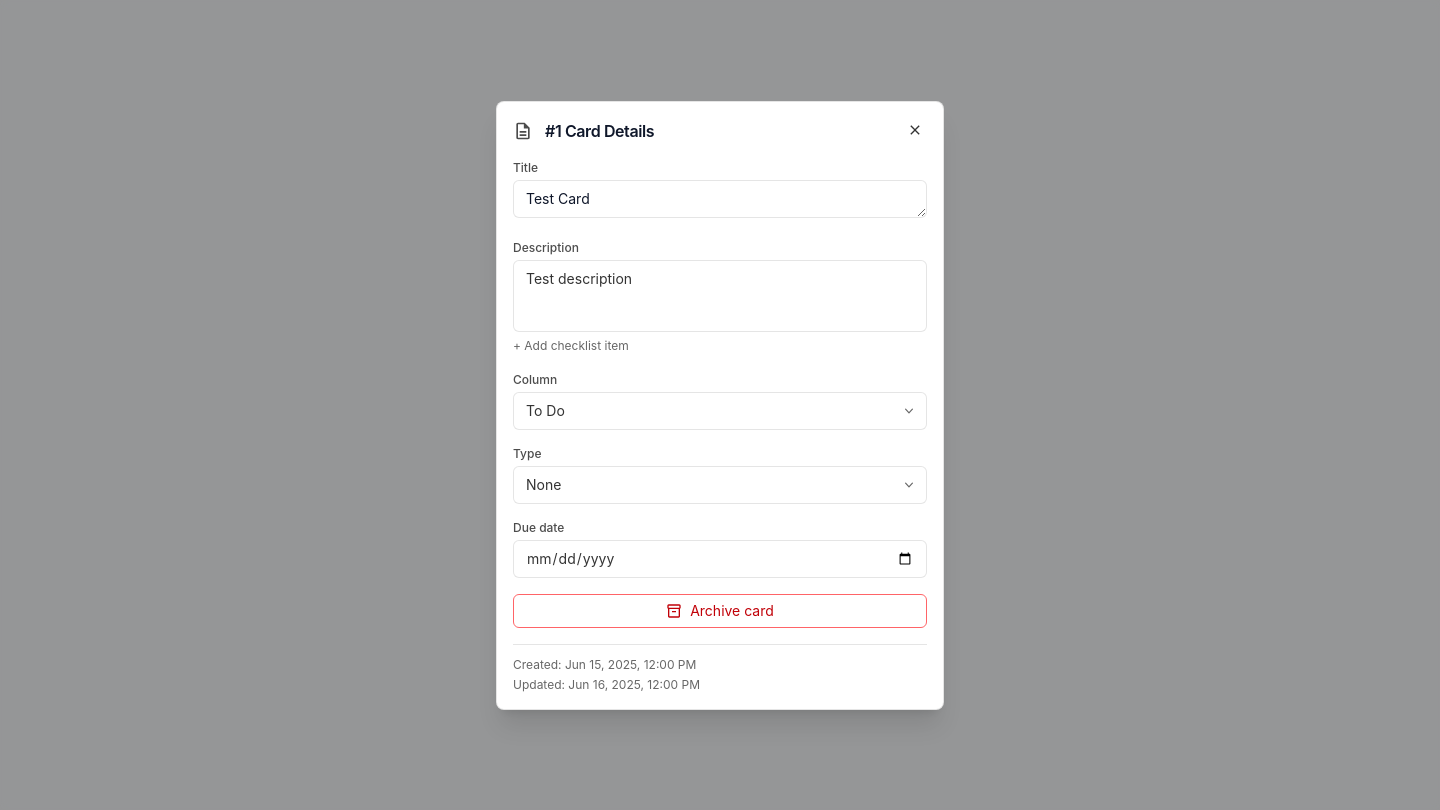
Scenario: CardDetailModal › reverts description on Escape and returns to preview
This screenshot has width=1440, height=810.
Click the element with test id "card-detail-description-preview". click: (720, 296)
box: [513, 260, 927, 332]
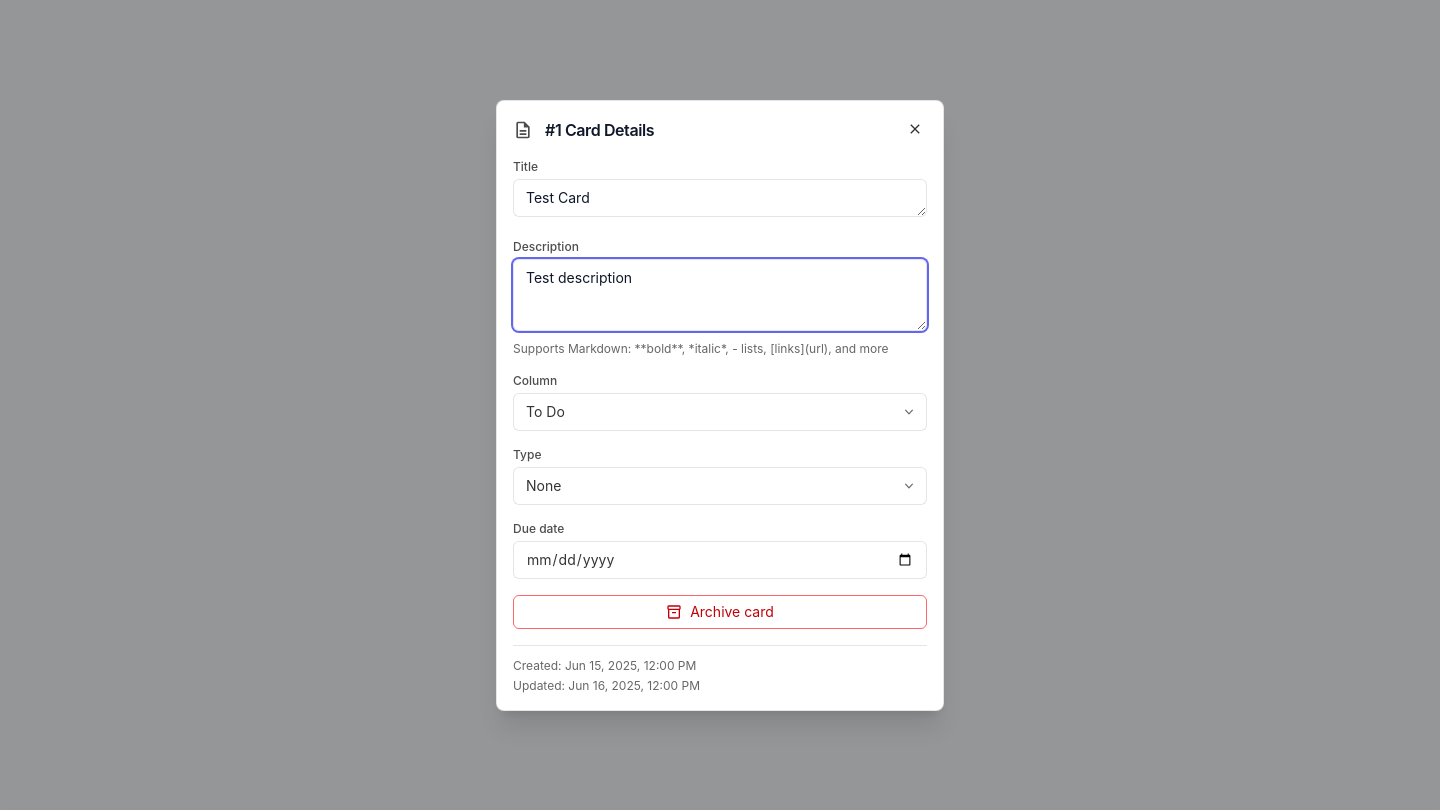
Replace the text in the text box with test id "card-detail-description" with "Changed". click: (720, 294)
box: [513, 258, 927, 330]
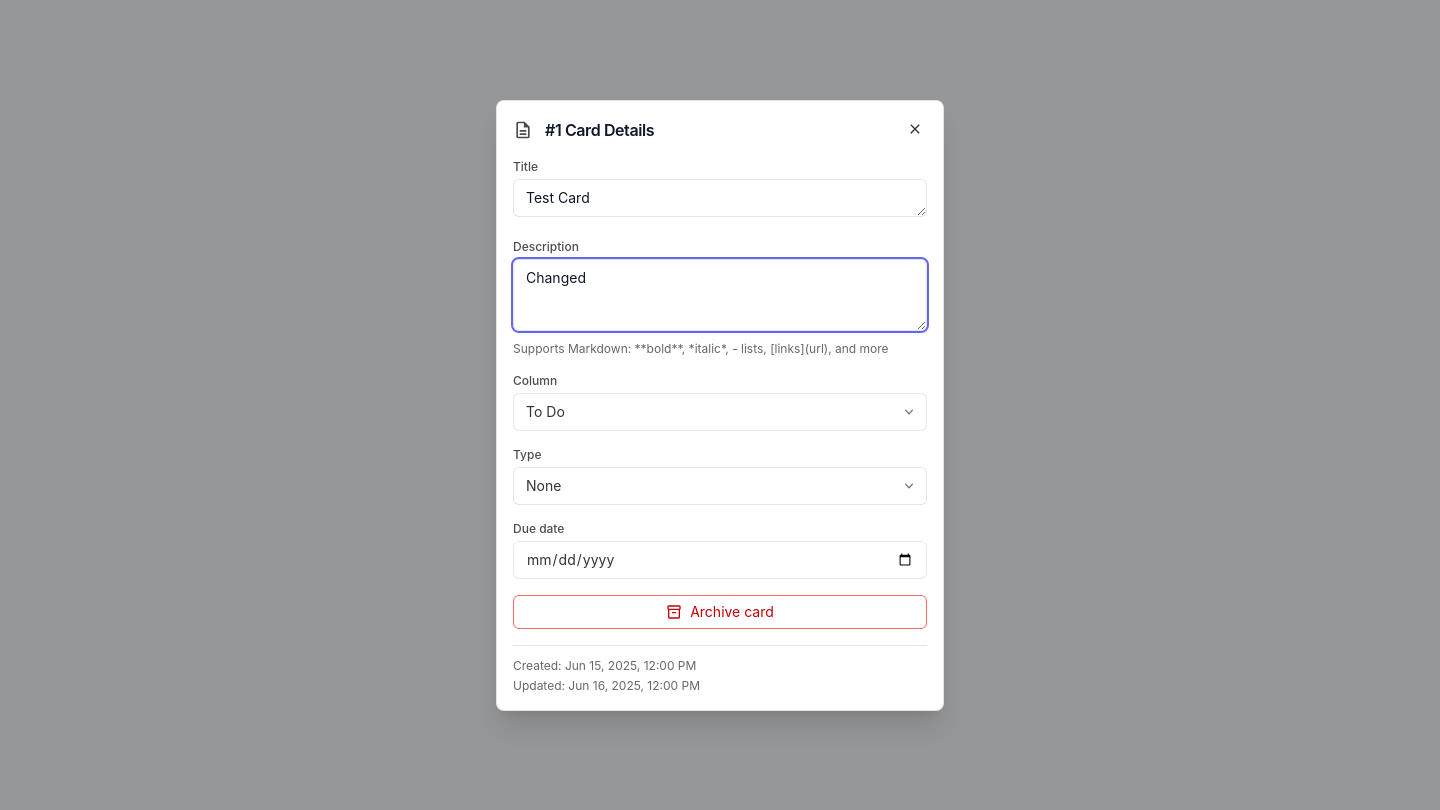
Press Escape
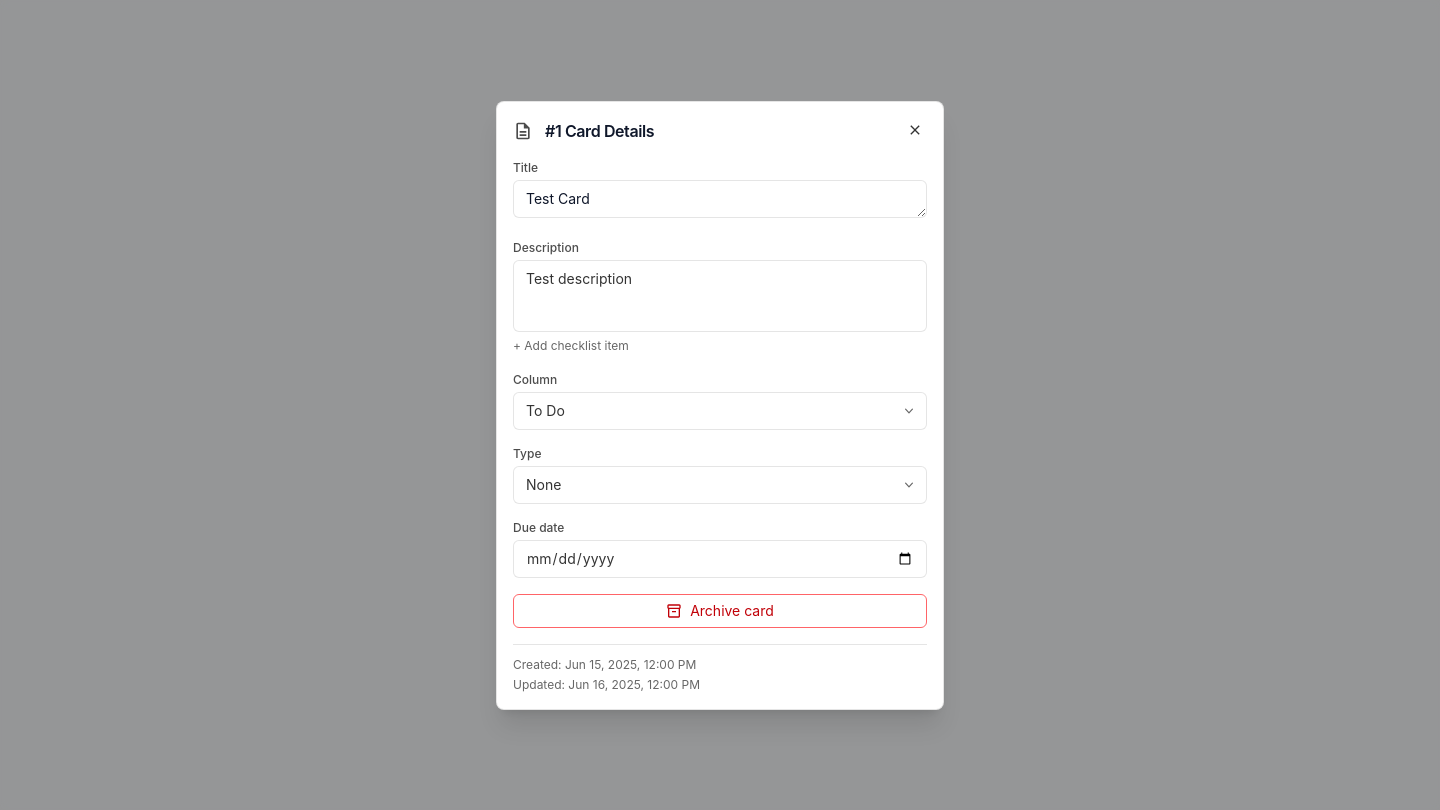
Expected: the element with test id "card-detail-description-preview" is shown, [513, 260, 927, 332]
Expected: the text "Test description" is shown, [526, 270, 632, 286]
